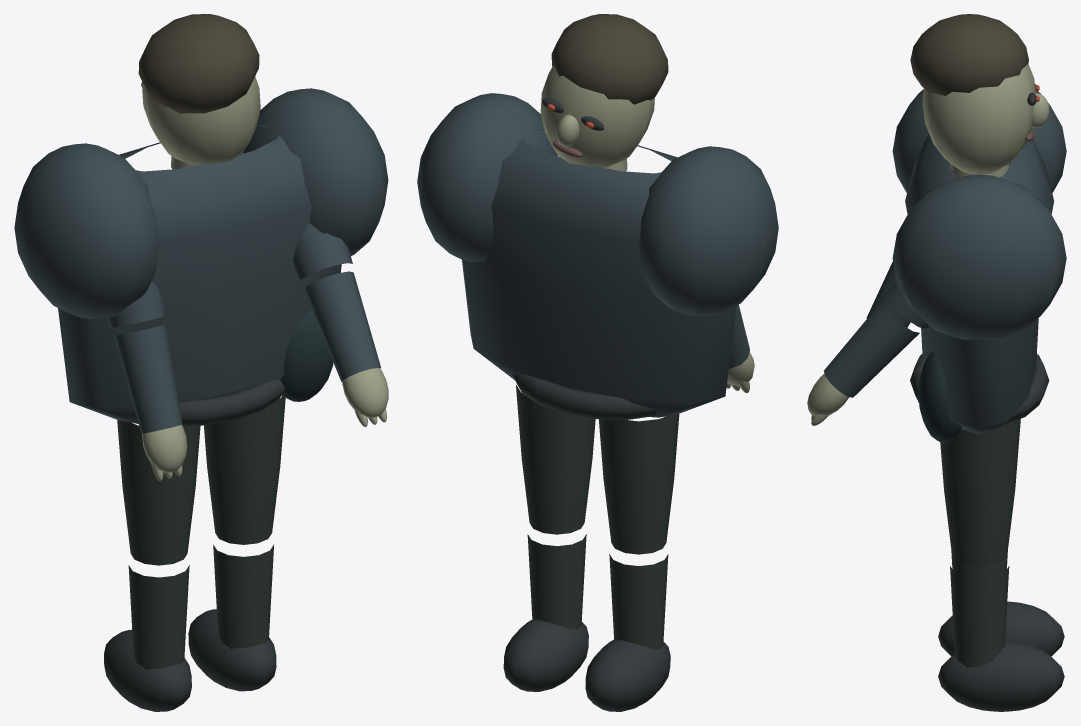
File: boss-2.glb
The picture shows the model from 3 angles, left to right: view 1: azimuth 30°, elevation 25°; view 2: azimuth 150°, elevation 25°; view 3: azimuth 270°, elevation 25°; orthographic projection. The views are drawn at different scales.
Visible parts, largest first — view 1: object 1, object 15, head, object 16, kneeR, kneeL, legR, legL, elbowR, elbowL, object 14, object 3 (+2 smaller); view 2: object 1, object 15, head, object 16, kneeL, kneeR, legL, legR, object 3, elbowL; view 3: object 16, head, object 1, kneeR, legR, elbowR, object 15, kneeL, object 14, object 3, elbowL, armR.
Boxes of the visible parts, bbox=[...] form: object 1: bbox=[27, 125, 341, 423]; object 15: bbox=[14, 143, 158, 319]; head: bbox=[138, 14, 260, 165]; object 16: bbox=[242, 88, 388, 255]; kneeR: bbox=[188, 545, 276, 691]; kneeL: bbox=[104, 565, 191, 711]; legR: bbox=[204, 396, 285, 544]; legL: bbox=[117, 420, 200, 565]; elbowR: bbox=[304, 271, 388, 426]; elbowL: bbox=[114, 324, 187, 481]; object 14: bbox=[280, 310, 333, 401]; object 3: bbox=[179, 379, 285, 425]; object 1: bbox=[462, 128, 765, 417]; object 15: bbox=[639, 146, 778, 316]; head: bbox=[540, 14, 668, 167]; object 16: bbox=[417, 93, 557, 262]; kneeL: bbox=[585, 554, 670, 711]; kneeR: bbox=[503, 534, 588, 691]; legL: bbox=[598, 414, 679, 554]; legR: bbox=[516, 385, 595, 534]; object 3: bbox=[512, 374, 655, 419]; elbowL: bbox=[726, 304, 754, 393]; object 16: bbox=[892, 174, 1066, 339]; head: bbox=[910, 14, 1049, 174]; object 1: bbox=[905, 134, 1054, 434]; kneeR: bbox=[938, 566, 1064, 711]; legR: bbox=[940, 419, 1020, 566]; elbowR: bbox=[807, 298, 919, 425]; object 15: bbox=[892, 89, 1066, 192]; kneeL: bbox=[938, 551, 1064, 656]; object 14: bbox=[918, 352, 961, 442]; object 3: bbox=[910, 354, 1049, 424]; elbowL: bbox=[866, 261, 910, 327]; armR: bbox=[887, 281, 929, 328].
Bounding box in the file's own units: 0.986 × 1.86 × 0.6556.
